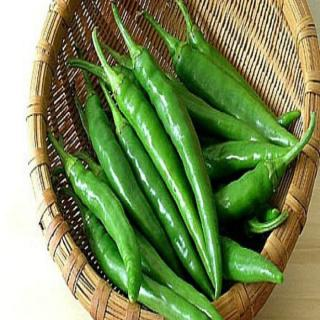Cabai Hijau: (38, 1, 317, 320)
